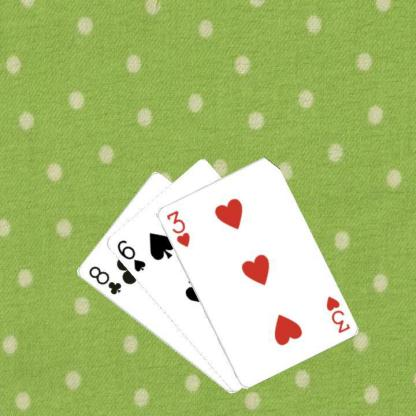3H: (323, 293, 351, 334), (164, 208, 191, 249)
6S: (114, 237, 147, 273)
8C: (86, 263, 122, 296)
